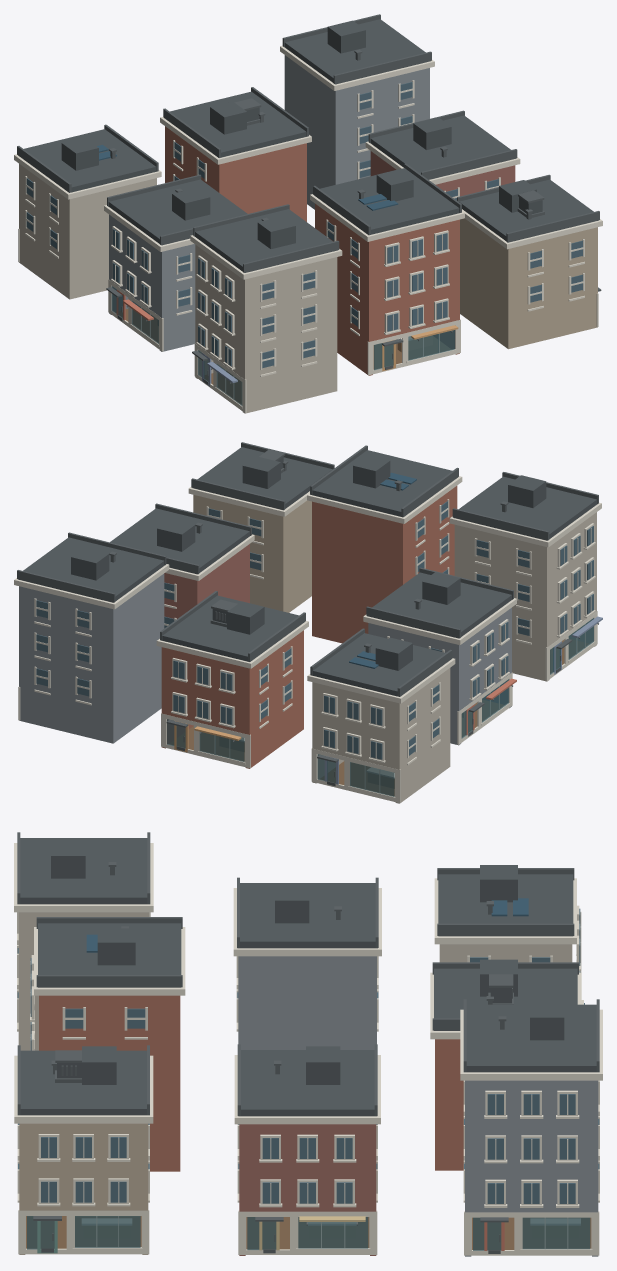
Rendered from downtown-block-m1-m2.glb.
The picture shows the model from 3 angles, top to bottom: view 1: azimuth 30°, elevation 25°; view 2: azimuth 150°, elevation 25°; view 3: azimuth 270°, elevation 25°; orthographic projection. The views are drawn at different scales.
Parts seen in each view (by area): view 1: urban_townhouse_14.005, urban_townhouse_00.005, urban_townhouse_01.004, urban_townhouse_07.001, urban_townhouse_04.004, urban_townhouse_02.004, urban_townhouse_05.001, urban_townhouse_03.004; view 2: urban_townhouse_07.001, urban_townhouse_14.005, urban_townhouse_05.001, urban_townhouse_00.005, urban_townhouse_04.004, urban_townhouse_02.004, urban_townhouse_01.004, urban_townhouse_03.004; view 3: urban_townhouse_07.001, urban_townhouse_03.004, urban_townhouse_01.004, urban_townhouse_02.004, urban_townhouse_00.005, urban_townhouse_04.004, urban_townhouse_14.005, urban_townhouse_05.001.
Part boxes in pixels (x1,y1,x2,y2): urban_townhouse_14.005: [190, 204, 342, 413]; urban_townhouse_00.005: [310, 163, 464, 375]; urban_townhouse_01.004: [457, 174, 602, 349]; urban_townhouse_07.001: [280, 14, 434, 209]; urban_townhouse_04.004: [14, 124, 161, 299]; urban_townhouse_02.004: [104, 174, 247, 351]; urban_townhouse_05.001: [160, 87, 311, 221]; urban_townhouse_03.004: [365, 110, 520, 200]; urban_townhouse_07.001: [14, 532, 169, 743]; urban_townhouse_14.005: [449, 472, 602, 681]; urban_townhouse_05.001: [156, 591, 308, 768]; urban_townhouse_00.005: [307, 445, 462, 643]; urban_townhouse_04.004: [307, 628, 455, 803]; urban_townhouse_02.004: [363, 567, 516, 745]; urban_townhouse_01.004: [188, 442, 334, 612]; urban_townhouse_03.004: [110, 503, 254, 628]; urban_townhouse_07.001: [460, 999, 602, 1256]; urban_townhouse_03.004: [234, 1044, 380, 1255]; urban_townhouse_01.004: [14, 1045, 153, 1254]; urban_townhouse_02.004: [233, 877, 381, 1049]; urban_townhouse_00.005: [30, 917, 185, 1171]; urban_townhouse_04.004: [434, 865, 581, 972]; urban_townhouse_14.005: [14, 832, 153, 1050]; urban_townhouse_05.001: [430, 959, 584, 1170].
Size of the model in its own units: 33.49 by 13.69 by 34.19.
